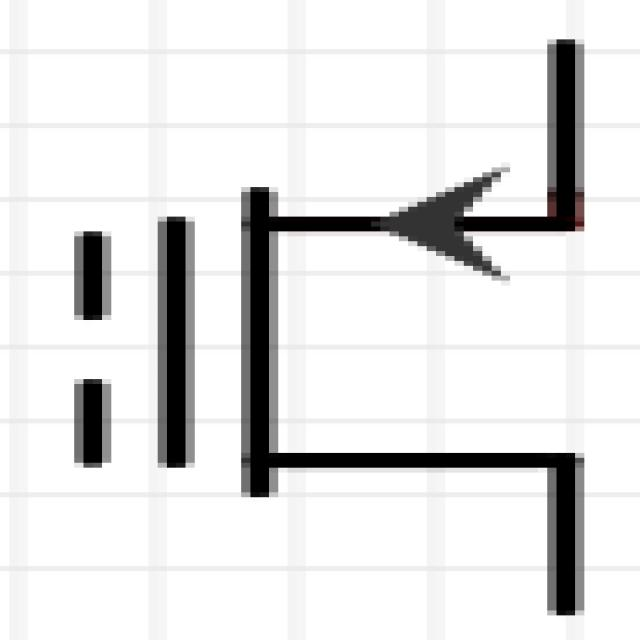pmos: (9, 10, 640, 596)
